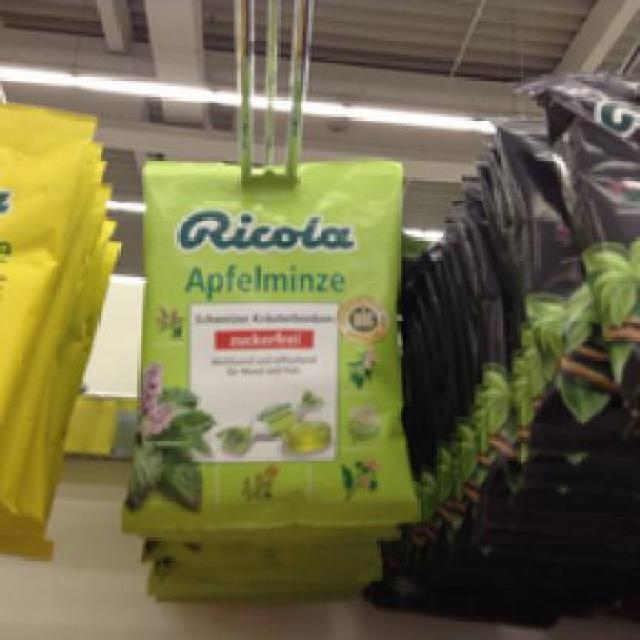Candy: (143, 169, 406, 520), (500, 86, 637, 448)
